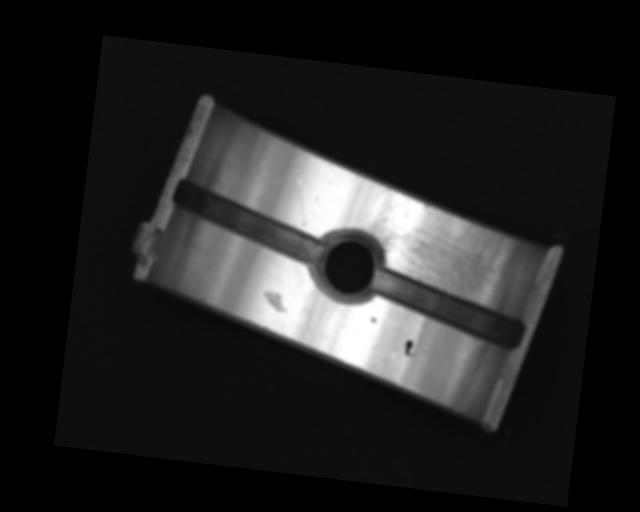blot: (402, 338, 418, 357)
bruise: (261, 287, 289, 313), (370, 317, 377, 323)
gap: (169, 179, 329, 267), (365, 269, 529, 351)
hole: (307, 227, 387, 307)
nick: (290, 168, 312, 227)
scratch: (358, 185, 525, 314)
